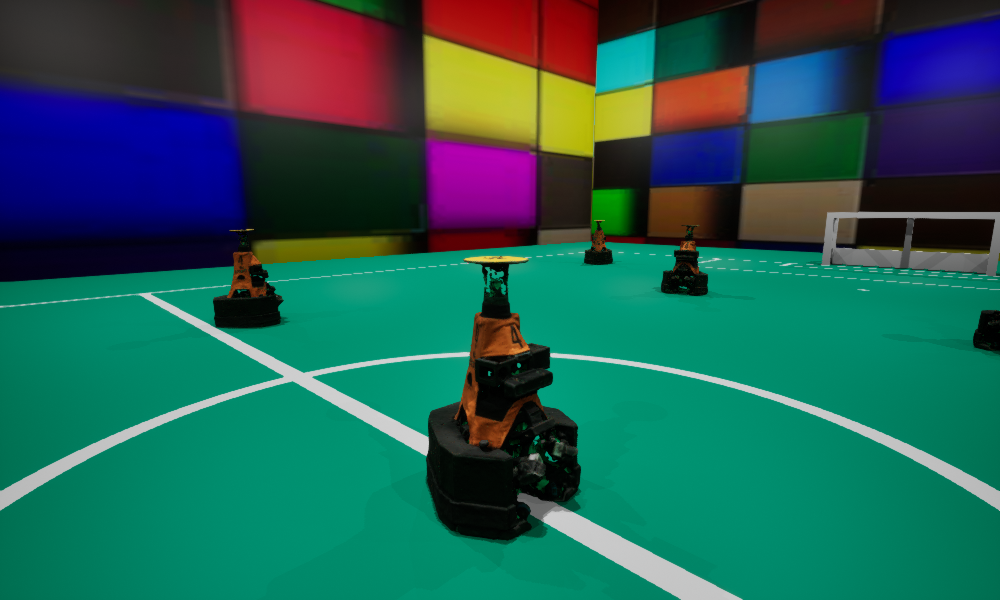0 orange robot TechUnited: (426, 256, 580, 540), (213, 229, 283, 327), (661, 225, 707, 294), (584, 220, 612, 264), (973, 310, 999, 350)
